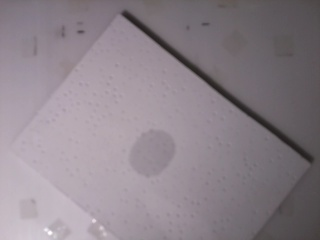Water_detected: (126, 127, 171, 175)
